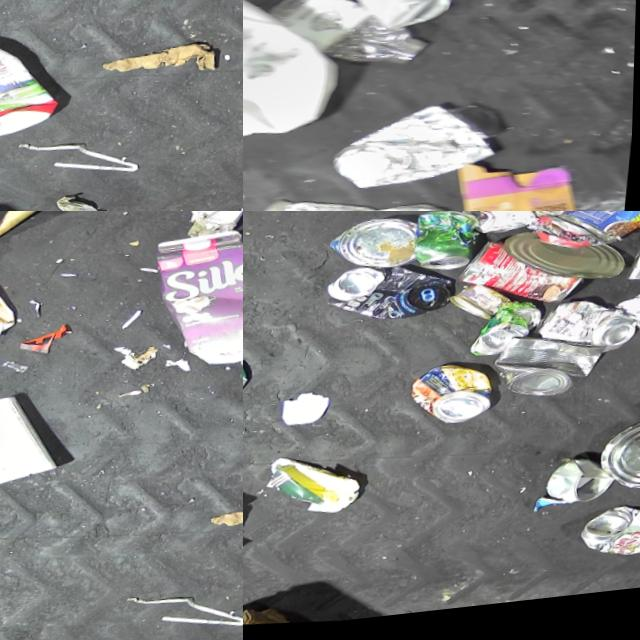can: (332, 98, 508, 208), (458, 238, 590, 323), (325, 261, 456, 336), (493, 336, 610, 415), (502, 232, 631, 300), (538, 303, 640, 371), (410, 366, 498, 437), (328, 217, 421, 281), (412, 215, 482, 284), (471, 306, 546, 370), (556, 211, 640, 266), (551, 464, 621, 519), (580, 510, 640, 574), (448, 211, 542, 250), (598, 424, 640, 509), (450, 288, 515, 334)
milk_jug: (243, 0, 346, 178)
non_white_jug: (145, 226, 243, 382)
plastic_bottle: (243, 0, 436, 87), (254, 187, 451, 211)
